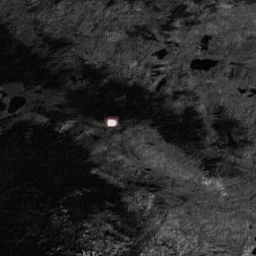Target: (106, 116, 117, 125)
